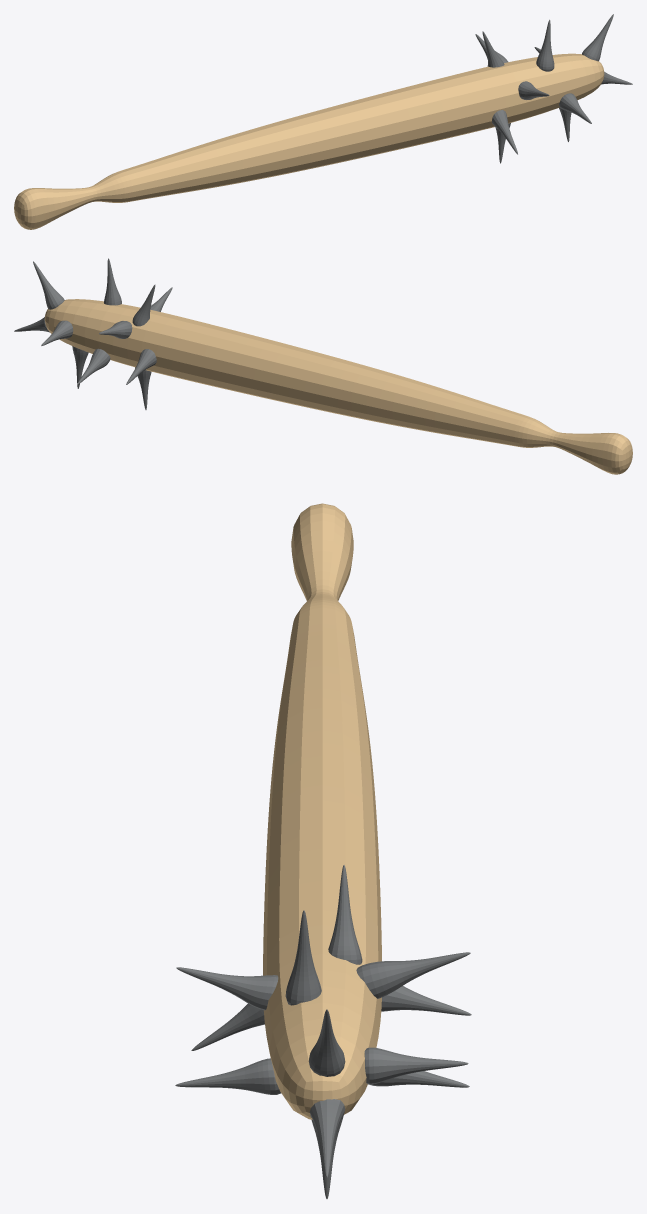
The model's file is Baseball_Bat_Smooth_Untextured.fbx.
The picture shows the model from 3 angles, top to bottom: view 1: azimuth 30°, elevation 25°; view 2: azimuth 150°, elevation 25°; view 3: azimuth 270°, elevation 25°; orthographic projection. The views are drawn at different scales.
Parts seen in each view (by area): view 1: Bat; view 2: Bat; view 3: Bat.
Boxes of the visible parts, x1,y1,x2,y2 form: Bat: (14,14,632,229); Bat: (14,258,632,474); Bat: (175,503,471,1198).
Bounding box in the file's own units: 204 × 43.63 × 42.69.
